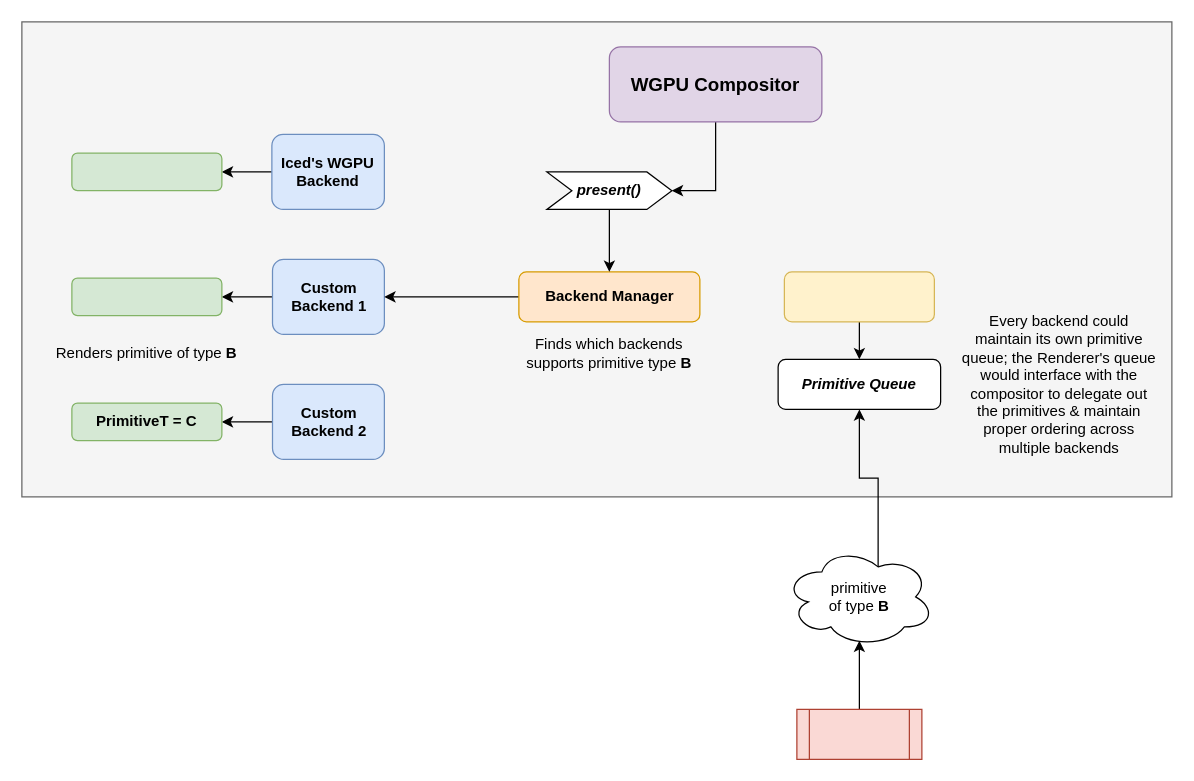
Some shapes in this 1194 by 781 pixel diagram are drawn without their labels. The shapes that lost their labels are listed below. From the top down, each one's centre as x and y in pixels, then its label:
At (146,171): "PrimitiveT = A".
At (146,296): "PrimitiveT = B".
At (858,296): "Renderer".
At (859,733): "Widget".
